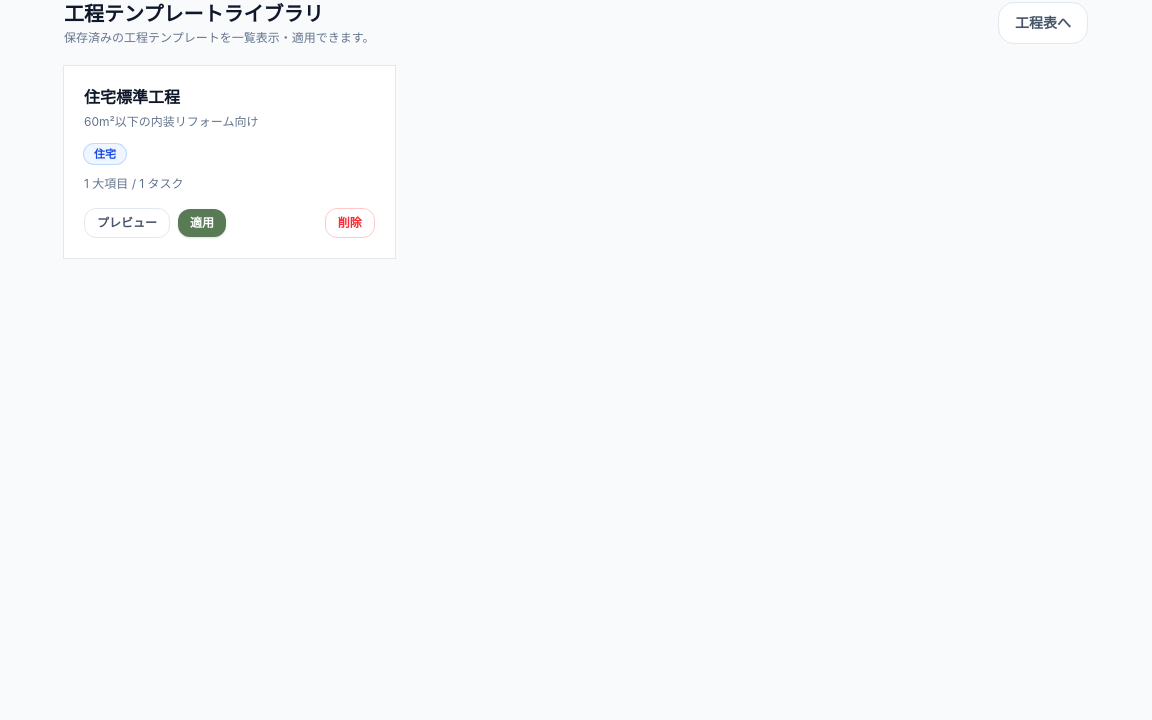
PhaseTemplateLibraryPage — プレビュー › プレビューボタンを押すとモーダルが開く
Click the button "プレビュー".
click(127, 223)  # box [84,208,170,238]
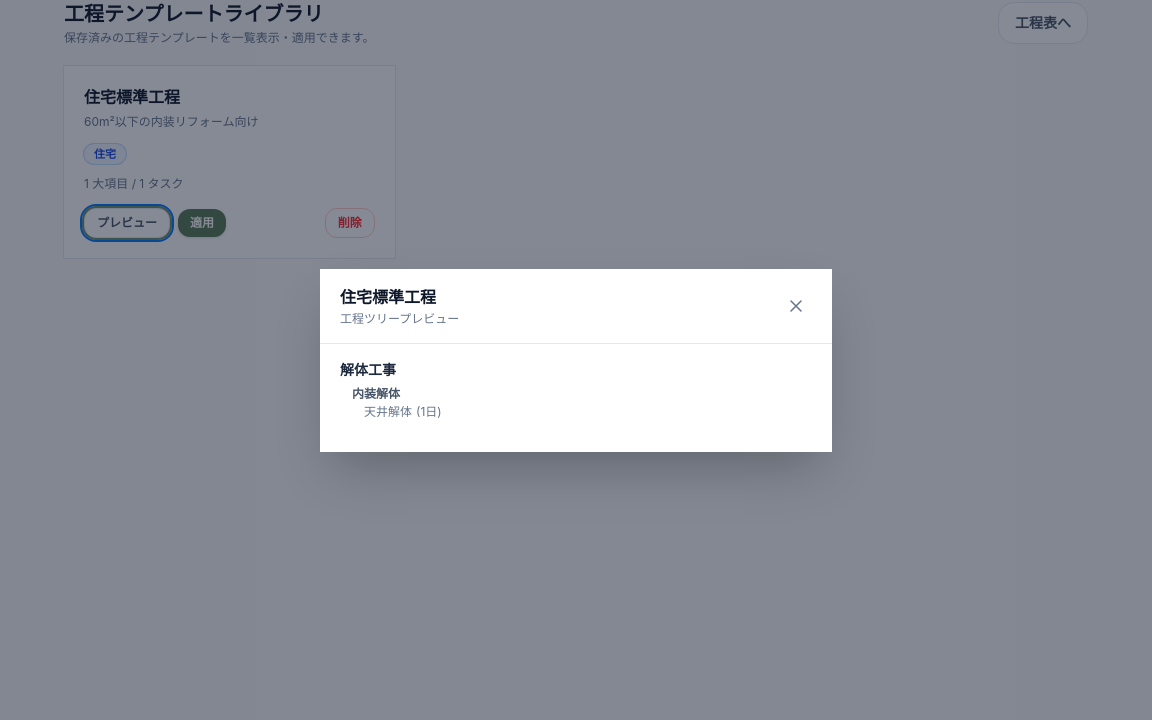
Now the dialog is shown, box [320,268,832,452]
Now the heading "解体工事" is shown, box [340,360,396,378]
